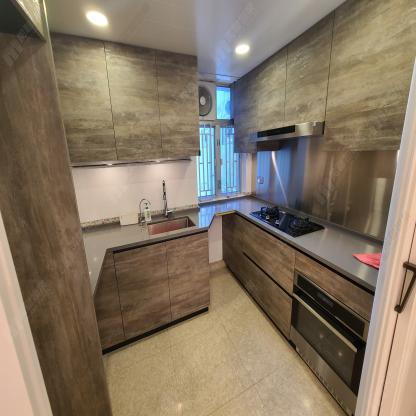Cupboard: (232, 1, 414, 154), (50, 36, 200, 164), (108, 230, 211, 346), (222, 215, 298, 340)
Exhaust Fan: (198, 80, 215, 123)
Exhaust Hood: (249, 122, 321, 142)
Faucet: (160, 179, 173, 220)
Oven: (288, 268, 372, 413)
Sink: (146, 215, 195, 236)
Stove: (249, 203, 330, 240)
